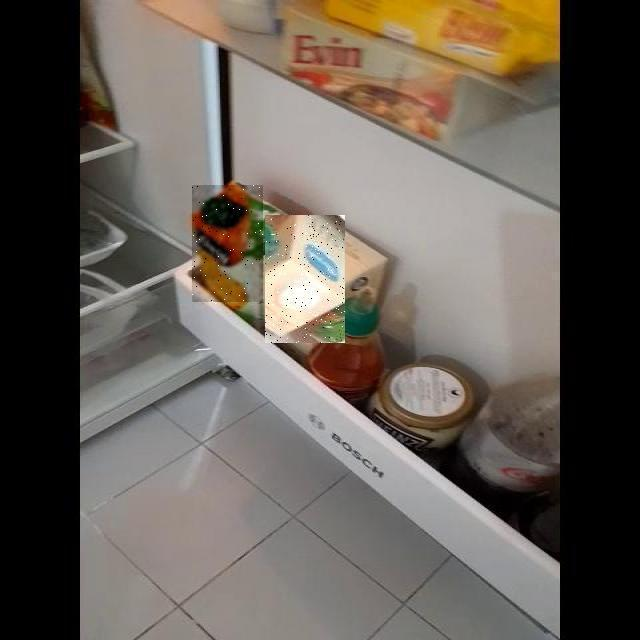milk: (92, 172, 438, 514)
